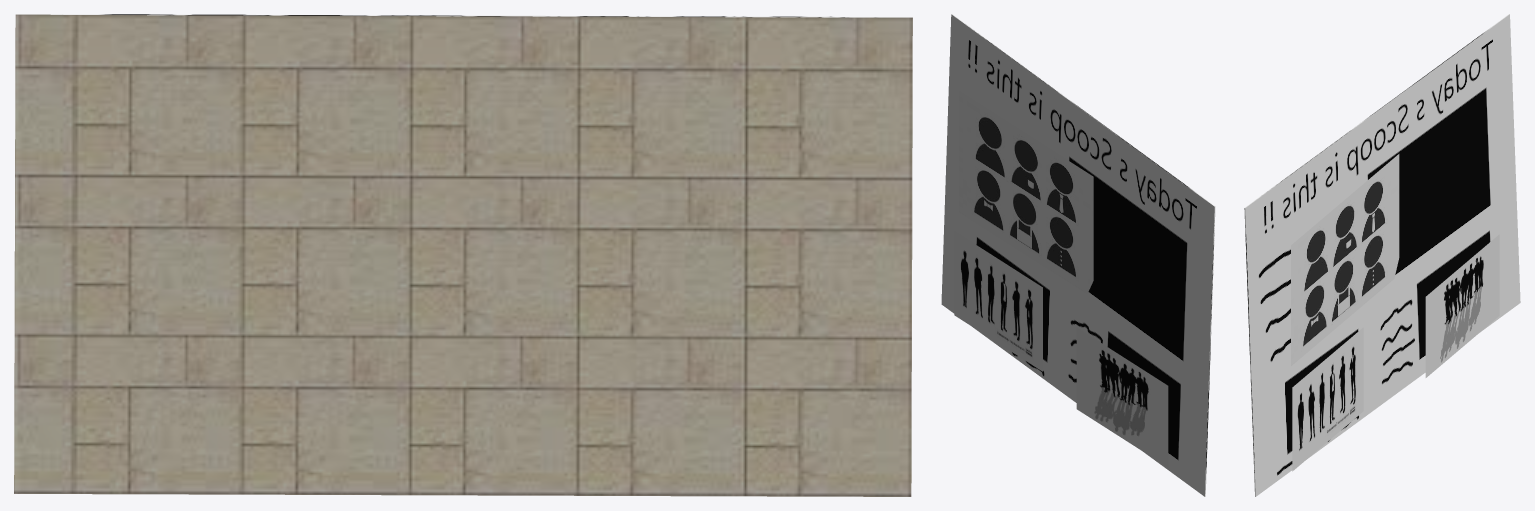
The model's file is news.FBX.
The picture shows the model from 3 angles, left to right: view 1: azimuth 30°, elevation 25°; view 2: azimuth 150°, elevation 25°; view 3: azimuth 270°, elevation 25°; orthographic projection. The views are drawn at different scales.
Parts seen in each view (by area): view 1: Box001; view 2: Box001, Plane001, Plane003, Plane002; view 3: Box001, Plane001, Plane003, Plane002.
Part boxes in pixels (box(x1,y1,x2,y2)): Box001: box(14, 14, 912, 496); Box001: box(941, 14, 1215, 496); Plane001: box(959, 91, 1093, 293); Plane003: box(1076, 327, 1168, 467); Plane002: box(954, 231, 1042, 371); Box001: box(1244, 14, 1520, 496); Plane001: box(1291, 154, 1399, 365); Plane003: box(1425, 234, 1499, 377); Plane002: box(1292, 327, 1363, 471).
Bounding box in the file's own units: 98.58 × 58.95 × 67.83.
